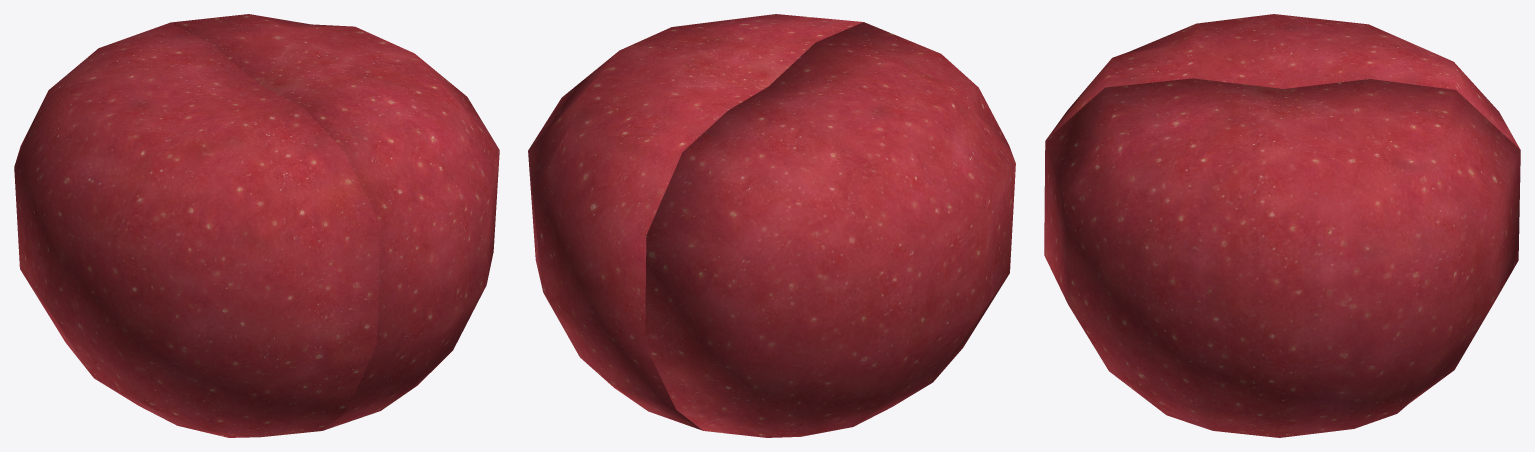
File: apple.fbx
3 views of the same model, side by side, from view 1: azimuth 30°, elevation 25°; view 2: azimuth 150°, elevation 25°; view 3: azimuth 270°, elevation 25° (orthographic).
Parts seen in each view (by area): view 1: apple_part, apple_part2; view 2: apple_part, apple_part2; view 3: apple_part2, apple_part.
Boxes of the visible parts, x1,y1,x2,y2 form: apple_part: (14, 22, 380, 437); apple_part2: (171, 14, 499, 430); apple_part: (645, 22, 1015, 437); apple_part2: (528, 14, 863, 430); apple_part2: (1044, 78, 1520, 437); apple_part: (1046, 14, 1520, 149).
Bounding box in the file's own units: 15.81 × 11.74 × 15.75.
